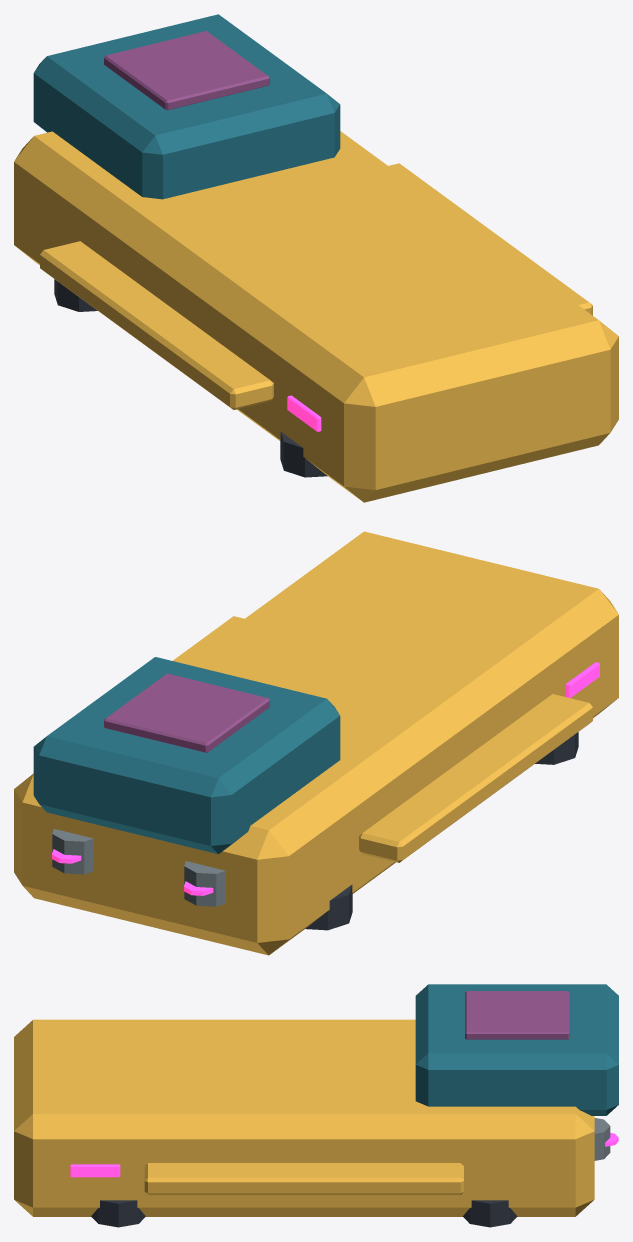
Rendered from vehicles_020_seed11.glb.
The picture shows the model from 3 angles, top to bottom: view 1: azimuth 30°, elevation 25°; view 2: azimuth 150°, elevation 25°; view 3: azimuth 270°, elevation 25°; orthographic projection. The views are drawn at different scales.
Parts seen in each view (by area): view 1: vehicles_020_seed11; view 2: vehicles_020_seed11; view 3: vehicles_020_seed11.
Boxes of the visible parts, x1=… form: vehicles_020_seed11: x1=14, y1=14, x2=618, y2=502; vehicles_020_seed11: x1=14, y1=531, x2=618, y2=955; vehicles_020_seed11: x1=14, y1=984, x2=618, y2=1227.
Bounding box in the file's own units: 2.89 × 1.49 × 5.08.
